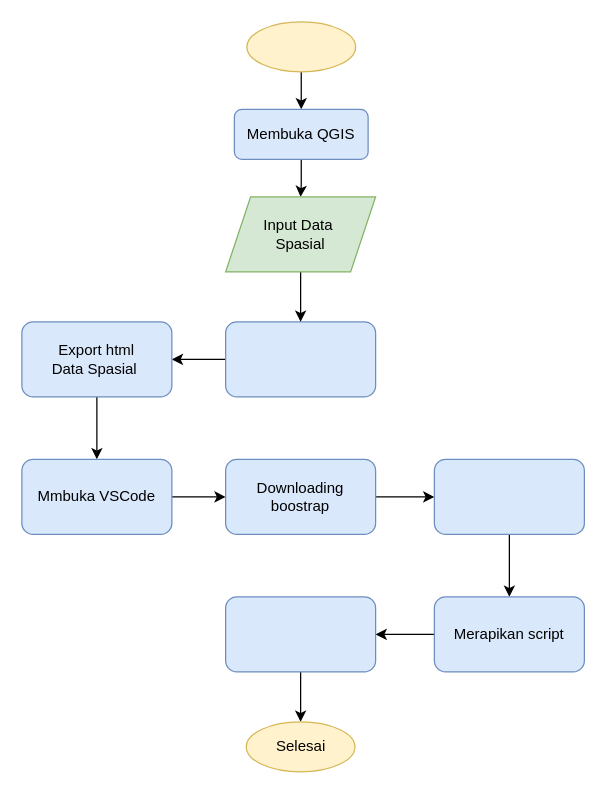
This 606x794 diagram has some shape labels left out. Here are the shapes that lost their labels. From the top down, the centre of each, then its label:
At (x=301, y=46): "Mulai".
At (x=300, y=359): "Pengolahan Data Spasial".
At (x=508, y=496): "Menguhubungkan dengan html spasial".
At (x=300, y=634): "Membuat Laporan".
